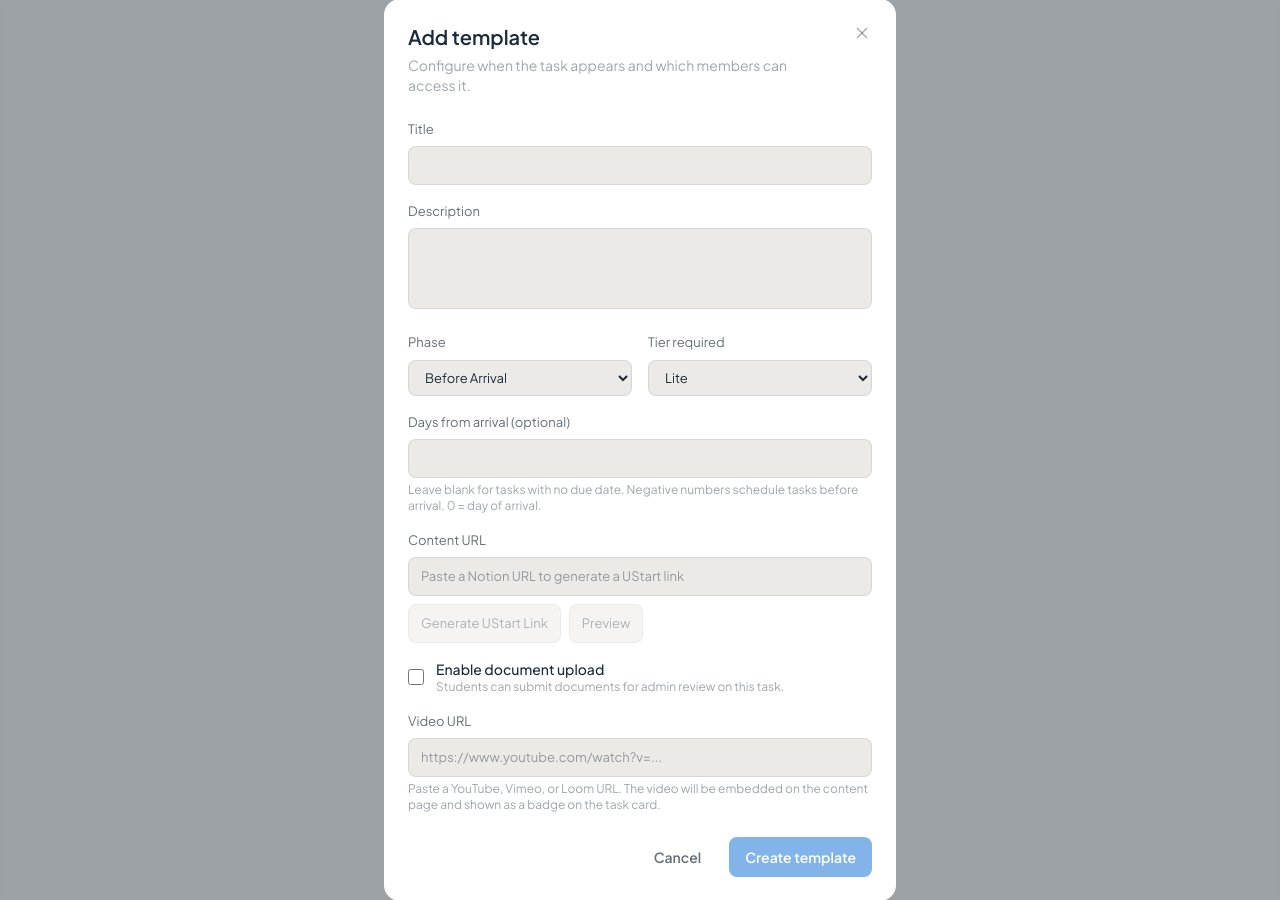
Test: PlanTemplateModal › clears the verification caption when user edits the field
Step 1. Type "https://notion.so/Banking-Basics-abc123" into the field named "content url" → (640, 576), box [408,557,872,596]
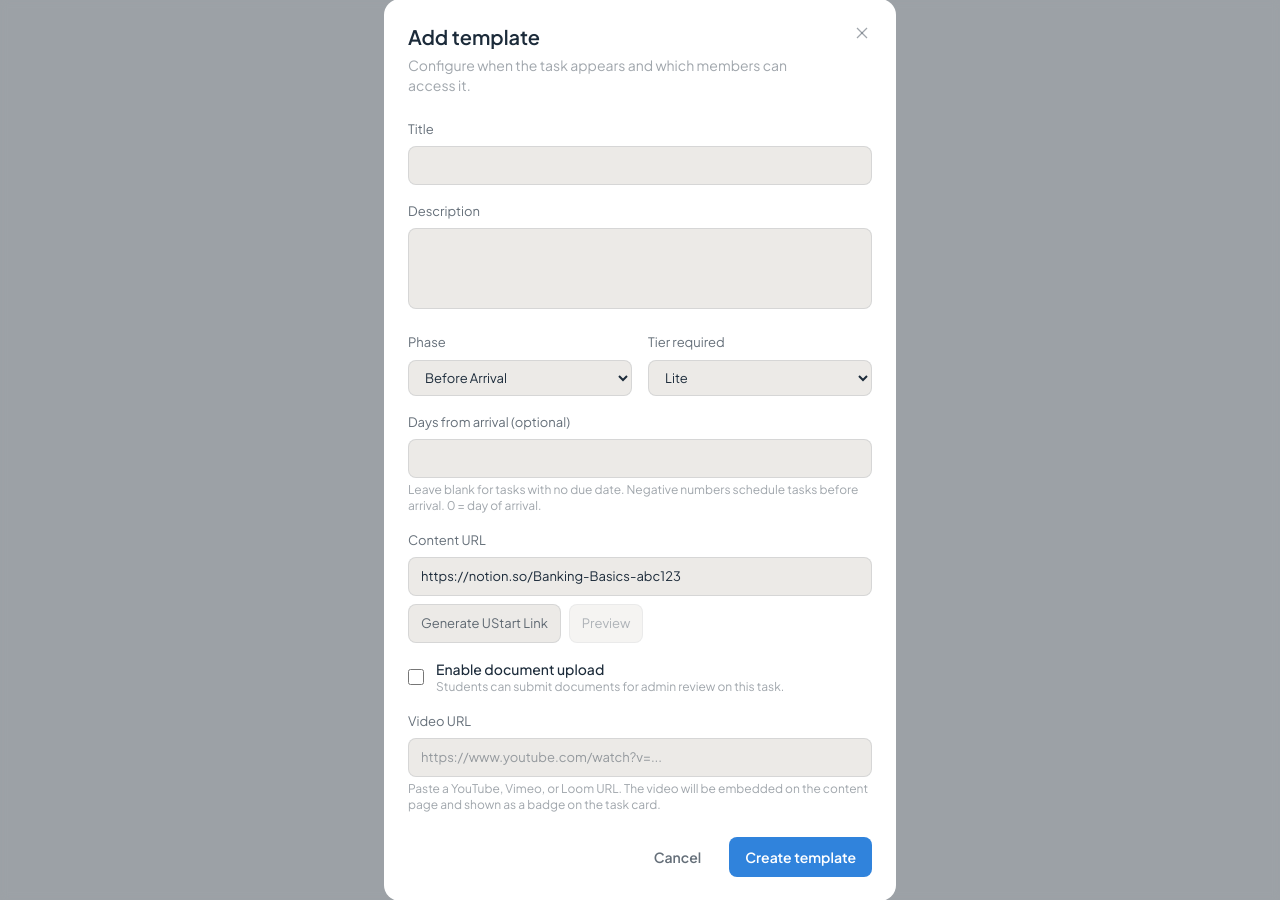
Step 2. Click the button "Generate UStart Link" → (484, 624), box [408,604,561,643]
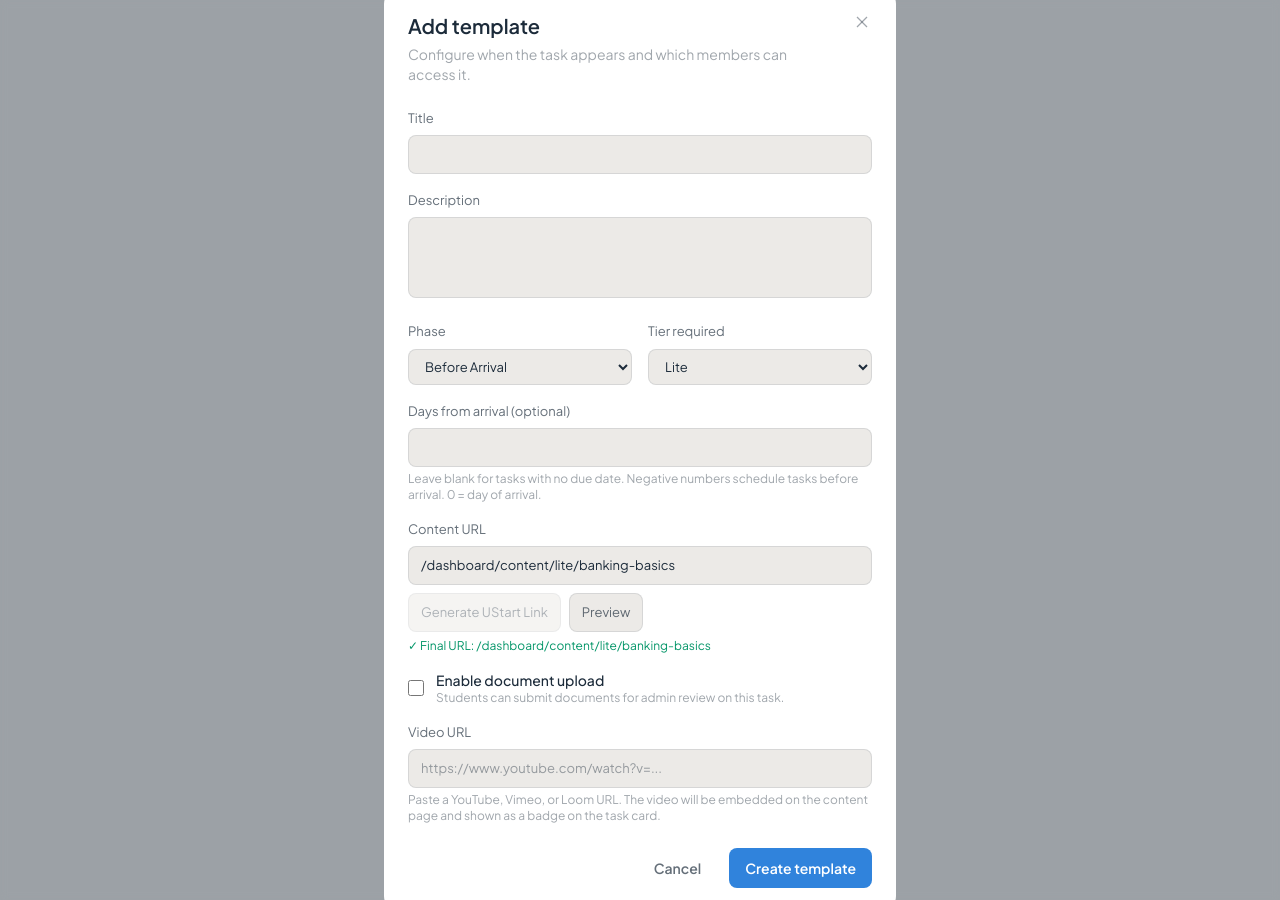
Expected: the text "✓ Final URL: /dashboard/content/lite/banking-basics" is shown, [408,638,711,653]
User edits the field — caption clears immediately
Step 3. Replace the text in the field named "content url" with "https://notion.so/other" → (640, 565), box [408,546,872,585]
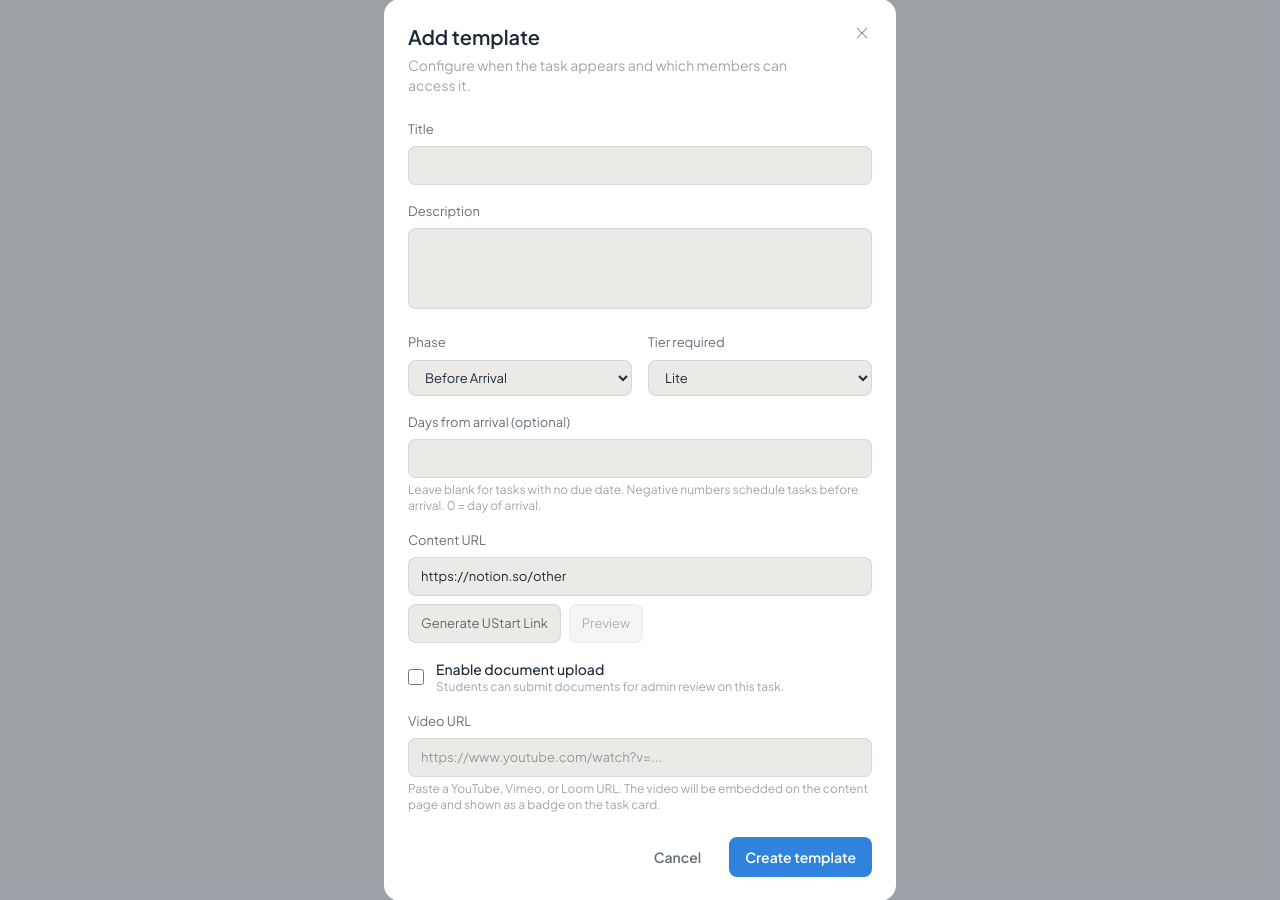
Expected: the text "✓ Final URL" is gone
